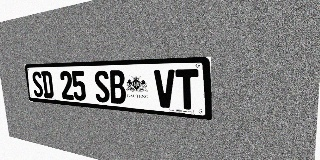2: (59, 71, 74, 100)
5: (71, 71, 87, 101)
B: (108, 70, 126, 104)
D: (41, 71, 54, 98)
S: (93, 70, 110, 103), (31, 71, 44, 97)
T: (175, 69, 199, 110)
V: (154, 69, 176, 108)
